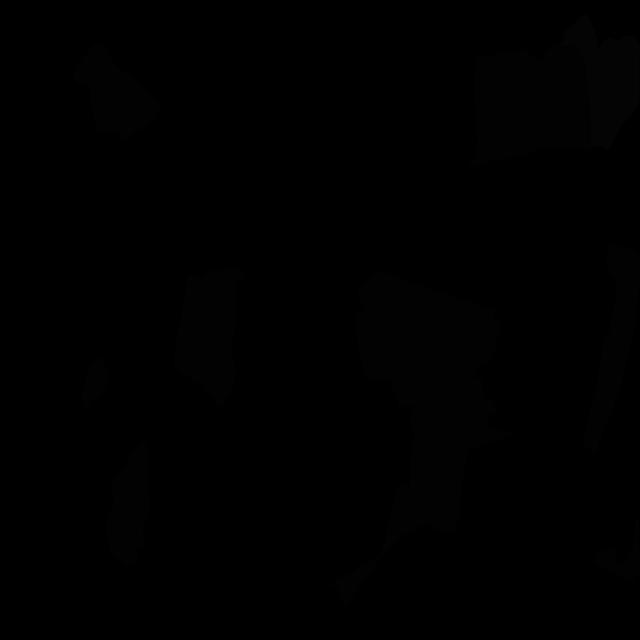cardboard: (330, 308, 518, 607), (468, 45, 590, 170), (358, 272, 494, 355), (174, 269, 244, 407), (583, 283, 636, 455), (72, 42, 160, 140), (106, 440, 150, 564), (595, 511, 640, 581), (606, 244, 640, 315), (80, 356, 109, 409)
soft_plastic: (557, 14, 640, 150)
